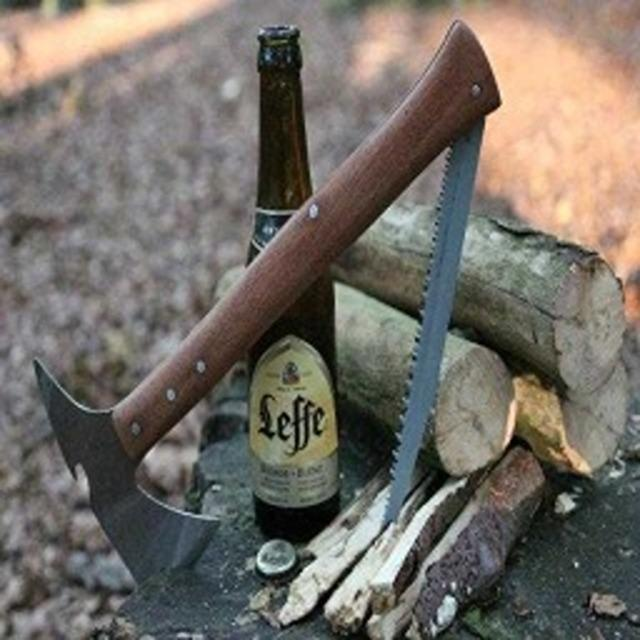ax: (21, 18, 522, 608)
